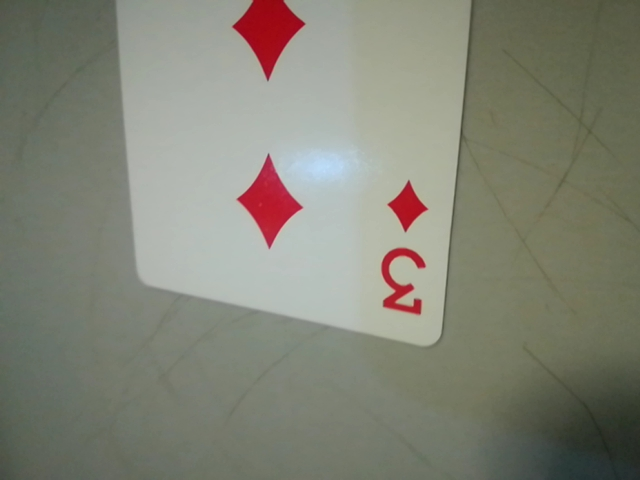fk 3: (364, 169, 440, 331)
